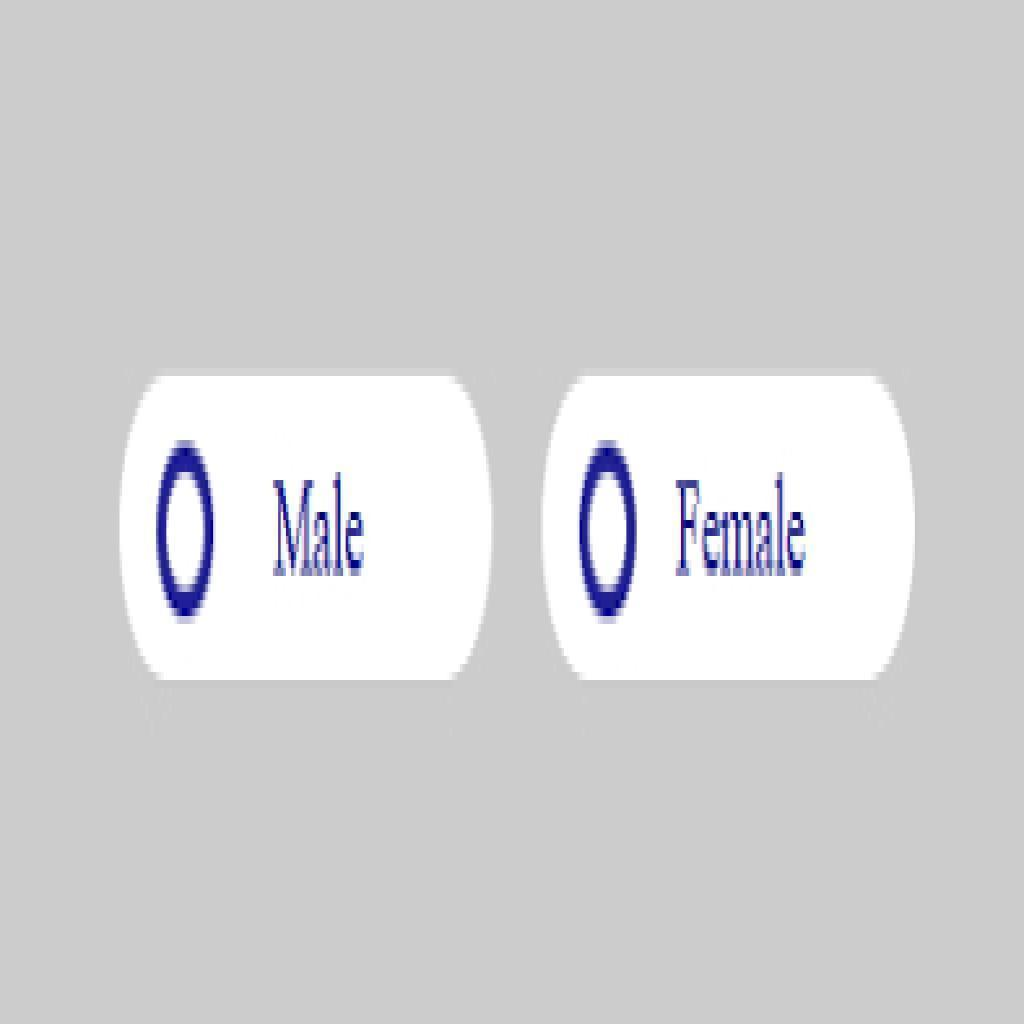label: (261, 470, 371, 589)
radio: (577, 429, 642, 627), (153, 435, 219, 627)
